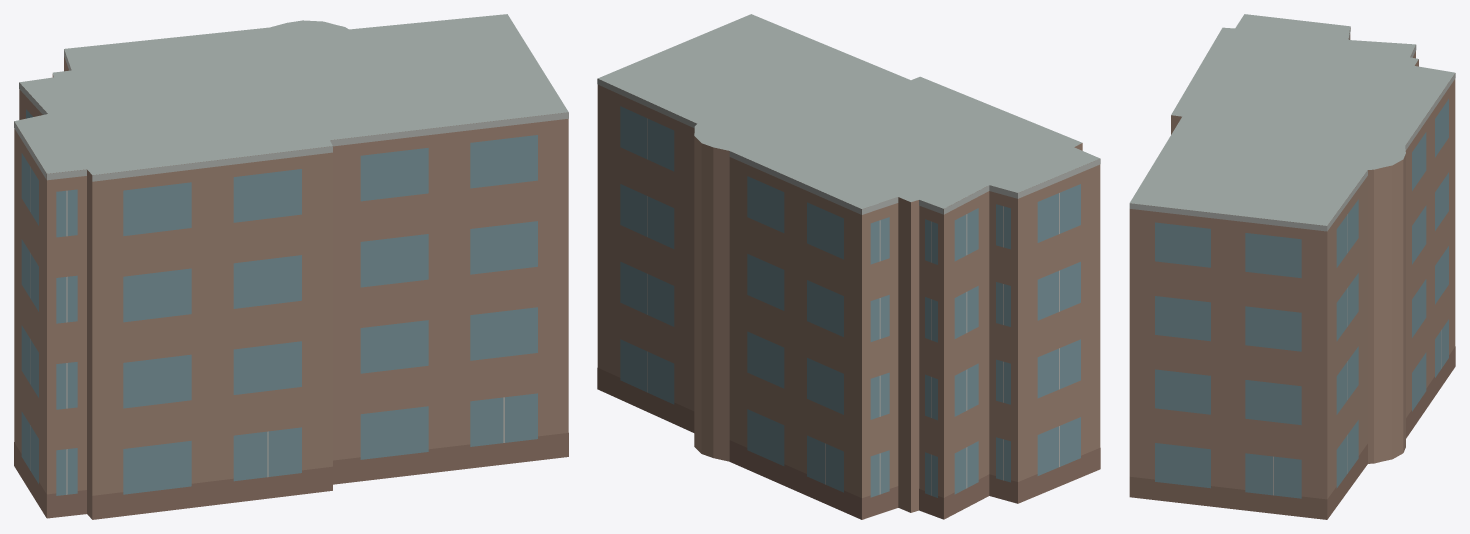
Rendered from survey-upis-32632954.glb.
3 views of the same model, side by side, from view 1: azimuth 30°, elevation 25°; view 2: azimuth 150°, elevation 25°; view 3: azimuth 270°, elevation 25° (orthographic). The views are drawn at different scales.
Parts seen in each view (by area): view 1: survey-upis-32632954.tmp; view 2: survey-upis-32632954.tmp; view 3: survey-upis-32632954.tmp.
Part boxes in pixels (box(x1,y1,x2,y2)): survey-upis-32632954.tmp: box(14, 14, 568, 519); survey-upis-32632954.tmp: box(597, 14, 1100, 519); survey-upis-32632954.tmp: box(1129, 14, 1455, 519).
Bounding box in the file's own units: 19.96 × 12.9 × 12.97.
